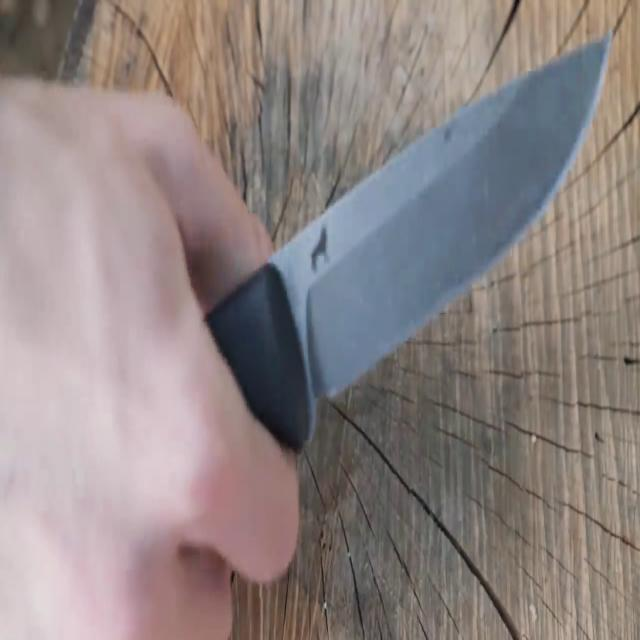Knife: (115, 16, 622, 633)
